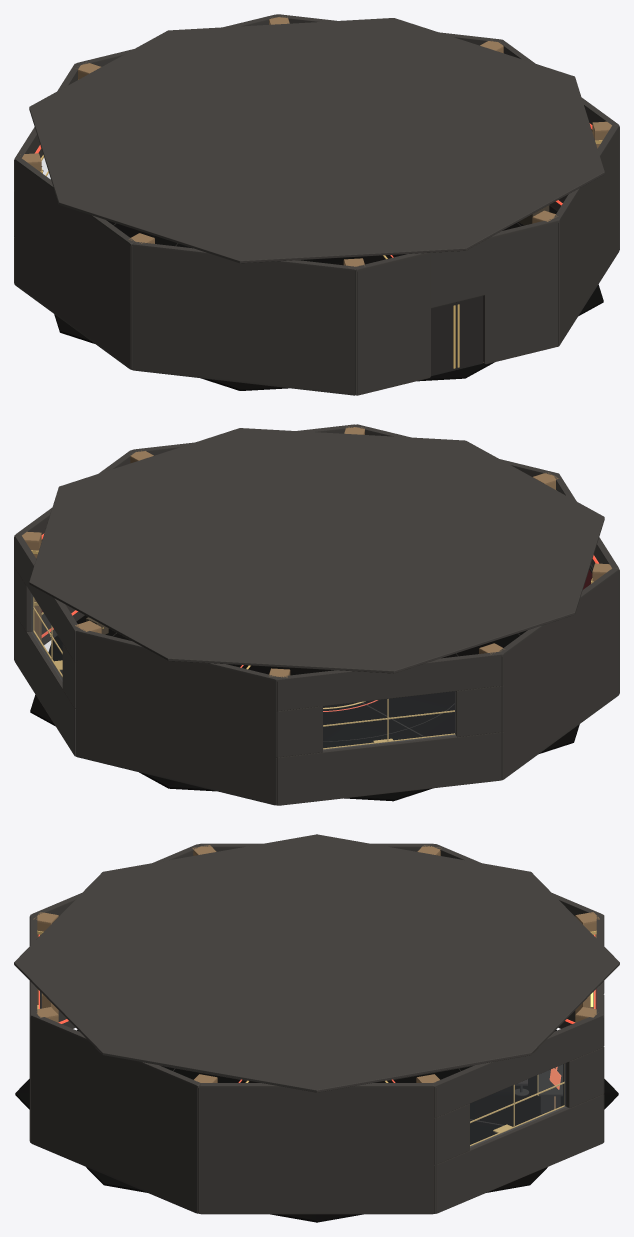
Rendered from room_env.glb.
The picture shows the model from 3 angles, top to bottom: view 1: azimuth 30°, elevation 25°; view 2: azimuth 150°, elevation 25°; view 3: azimuth 270°, elevation 25°; orthographic projection.
Visible parts, largest first — view 1: lid, wall5, wall4, dwSide1, dwSide-1, wall7, dwLintel, deck, doorR, doorL, wall0, wallHi3 (+2 smaller); view 2: lid, wall2, wall4, wallLo3, deck, wallHi3, wglass3, wallLo1, wallSd31, wallSd3-1, wallHi1, wglass1 (+6 smaller); view 3: lid, wall0, wall7, wallLo1, wallHi1, deck, wglass1, wallSd11, wallSd1-1, wall5, wallHi3, wall4 (+1 smaller).
Part boxes in pixels (x1,y1,x2,y2): lid: (29, 18, 604, 263); wall5: (130, 241, 357, 395); wall4: (14, 158, 134, 369); dwSide1: (483, 218, 559, 364); dwSide-1: (355, 253, 430, 395); wall7: (554, 125, 619, 345); dwLintel: (430, 240, 485, 308); deck: (54, 206, 603, 390); doorR: (456, 296, 482, 369); doorL: (431, 302, 456, 376); wall0: (498, 40, 619, 249); wallHi3: (14, 63, 80, 190); lid: (29, 428, 604, 673); wall2: (74, 629, 278, 805); wall4: (499, 568, 619, 779); wallLo3: (276, 732, 503, 805); deck: (30, 615, 579, 801); wallHi3: (276, 652, 503, 710); wglass3: (323, 692, 454, 749); wallLo1: (14, 614, 75, 756); wallSd31: (455, 686, 503, 737); wallSd3-1: (276, 706, 322, 757); wallHi1: (14, 535, 80, 661); wglass1: (31, 594, 61, 679); lid: (14, 834, 619, 1092); wall0: (197, 1083, 436, 1214); wall7: (29, 1014, 200, 1213); wallLo1: (434, 1094, 604, 1213); wallHi1: (433, 1014, 604, 1117); deck: (15, 1029, 618, 1222); wglass1: (470, 1064, 565, 1147); wallSd11: (564, 1047, 604, 1108); wallSd1-1: (434, 1104, 469, 1164); wall5: (29, 844, 200, 1028); wallHi3: (433, 844, 604, 945); wall4: (198, 843, 434, 851).
Bounding box in the file's own units: 25.7 × 6.22 × 25.7.
Materials: 13 (1 with a texture image).
